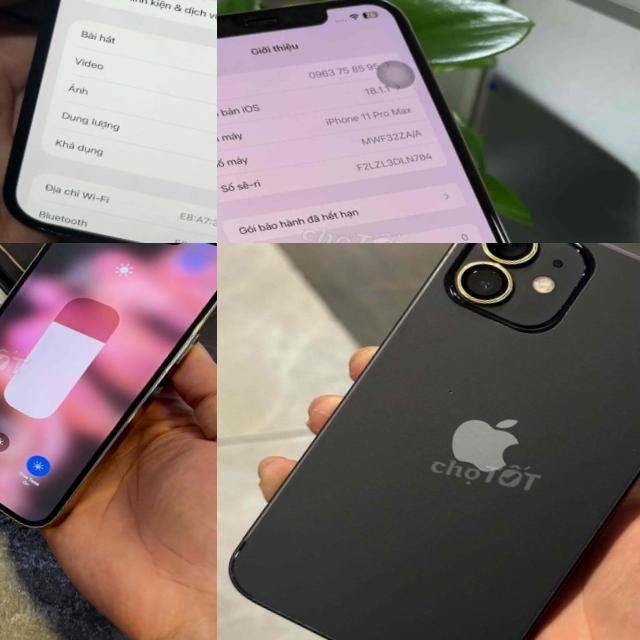gen_11: (217, 0, 640, 243)
gen_12_13: (217, 243, 640, 640), (0, 243, 217, 563), (0, 0, 217, 243)
